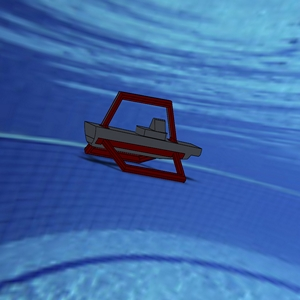submarine: (54, 65, 217, 206)
